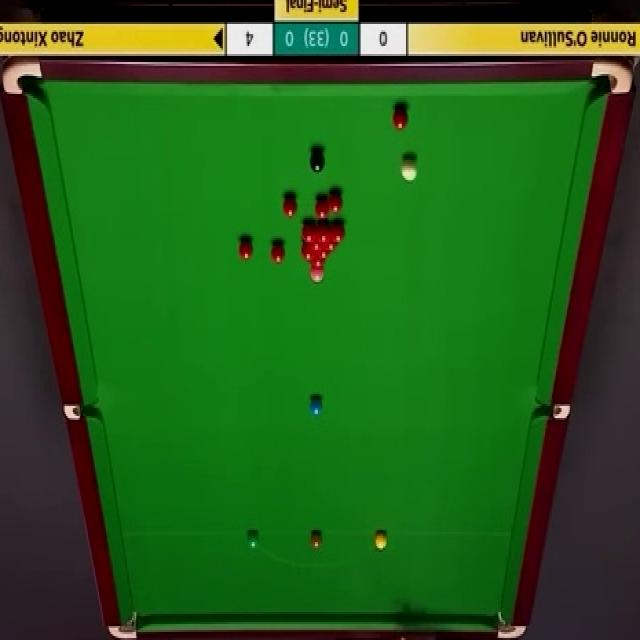black-ball: (310, 149, 326, 173)
blue-ball: (310, 398, 324, 415)
brown-ball: (310, 529, 322, 550)
green-ball: (245, 530, 260, 552)
pink-ball: (310, 265, 323, 285)
red-ball: (392, 105, 409, 131), (312, 196, 330, 220), (282, 192, 298, 218), (237, 240, 255, 261), (272, 243, 287, 264), (332, 221, 345, 243), (328, 193, 343, 212), (302, 221, 315, 242), (317, 223, 330, 244), (325, 239, 336, 251), (311, 238, 322, 250), (312, 253, 322, 265)
white-ball: (401, 156, 418, 183)
yellow-ball: (375, 530, 387, 550)
